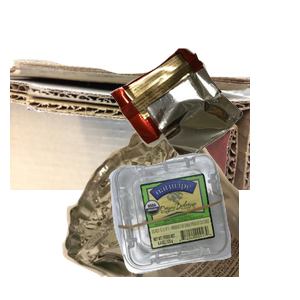cardboard: (10, 57, 250, 237)
glass: (60, 120, 300, 300)
plastic: (106, 151, 300, 300)
trash: (107, 46, 300, 198)
